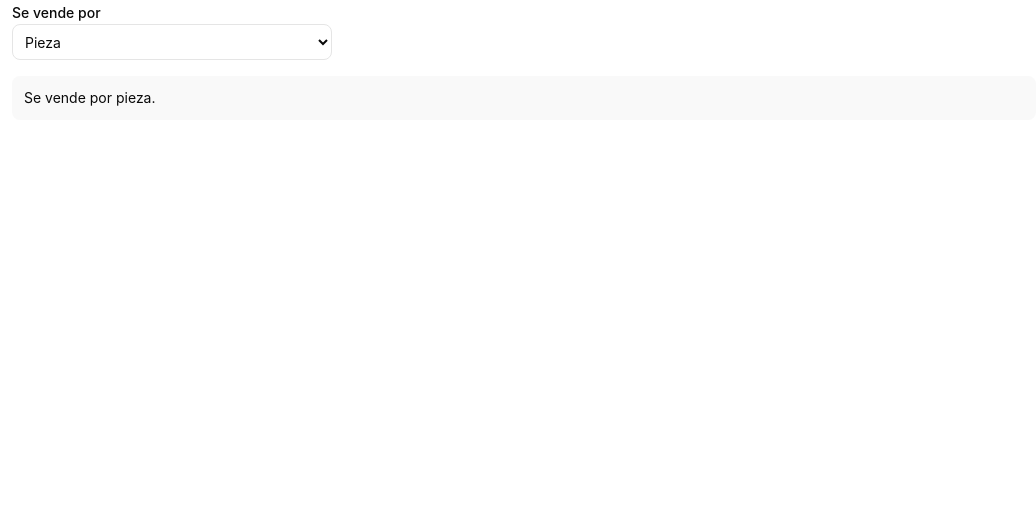
SalesUnitFields › walks through configuring a ribbon sold by cut and by roll, with live examples
Select "Metro (listones y cintas)" in the dropdown labelled "Se vende por" at [172, 42], box [12,24,332,60]
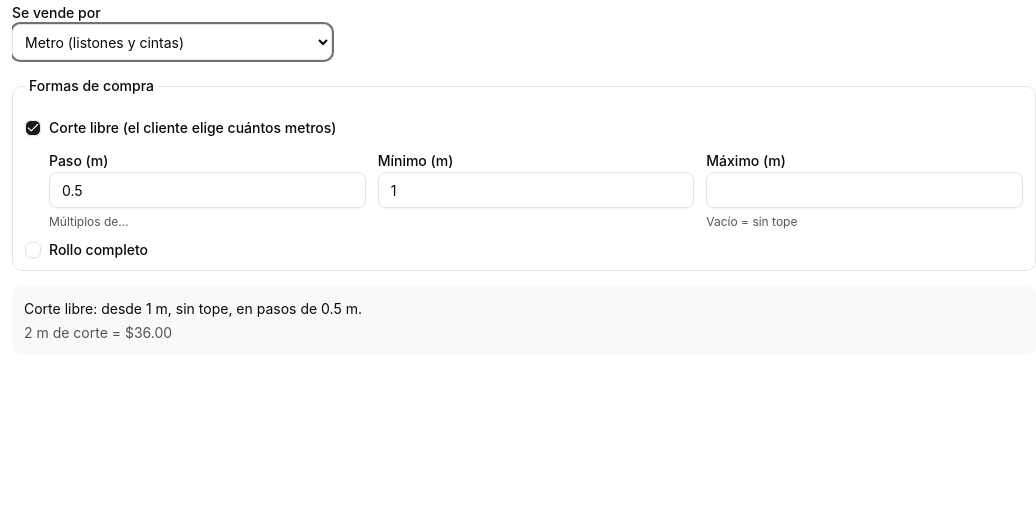
Result: the 1st checkbox named "Corte libre" is checked at [25,120,41,136]
Result: the field labelled "Paso (m)" holds "0.5" at [49,172,366,208]
Click the checkbox named "Rollo completo" next to "Rollo completo" at [33, 250], box [25,242,41,258]
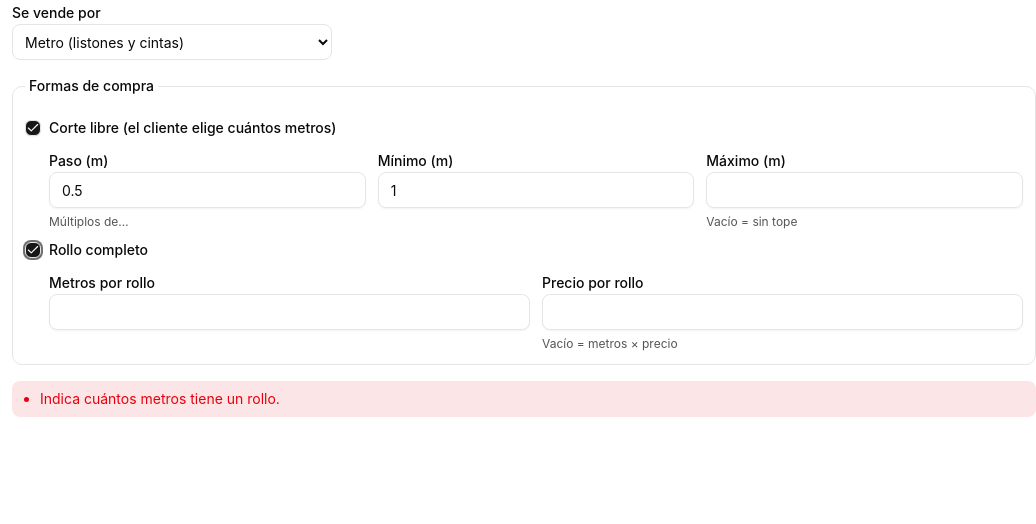
Result: the message reads "Indica cuántos metros tiene un rollo." at [40,390,280,407]
Type "25" into the field labelled "Metros por rollo" at [290, 312], box [49,294,530,330]
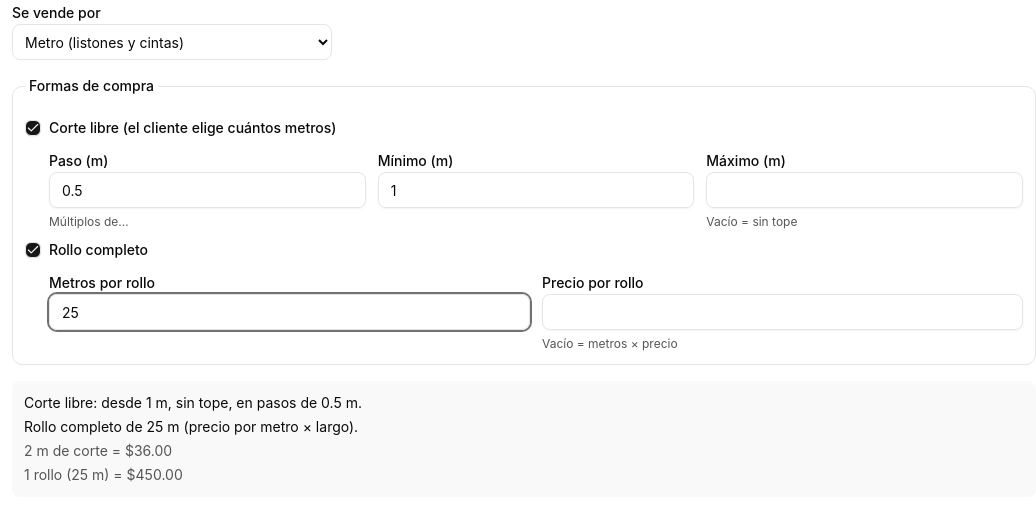
Type "400" into the field labelled "Precio por rollo" at [782, 312], box [542,294,1023,330]
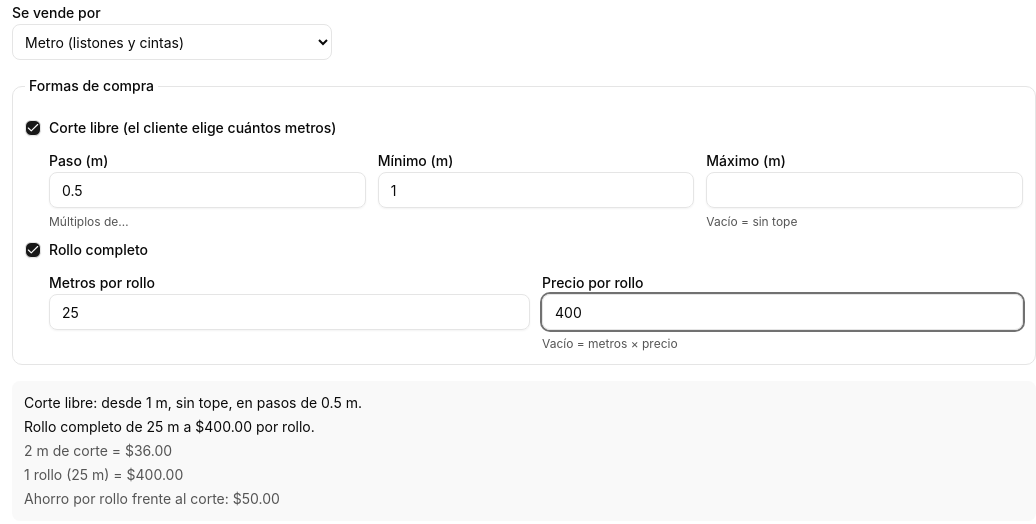
Type "50" into the field labelled "Máximo (m)" at [865, 190], box [706,172,1023,208]
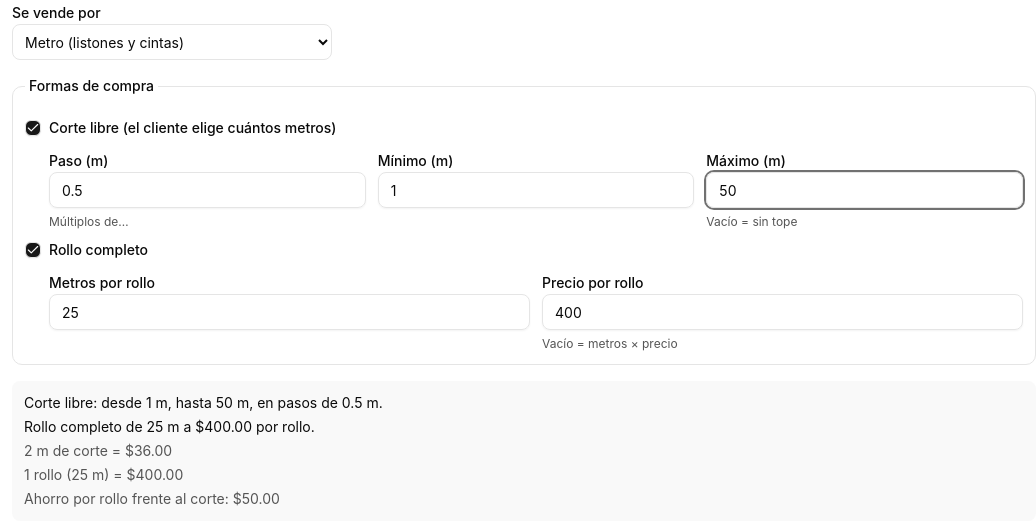
Result: the element named "Resumen de venta" shows "Rollo completo de 25 m a $400.00 por rollo." at [24,418,315,435]
Result: the element named "Resumen de venta" shows "2 m de corte = $36.00" at [24,442,172,459]
Result: the element named "Resumen de venta" shows "Corte libre: desde 1 m, hasta 50 m, en pasos de 0.5 m." at [24,394,383,411]
